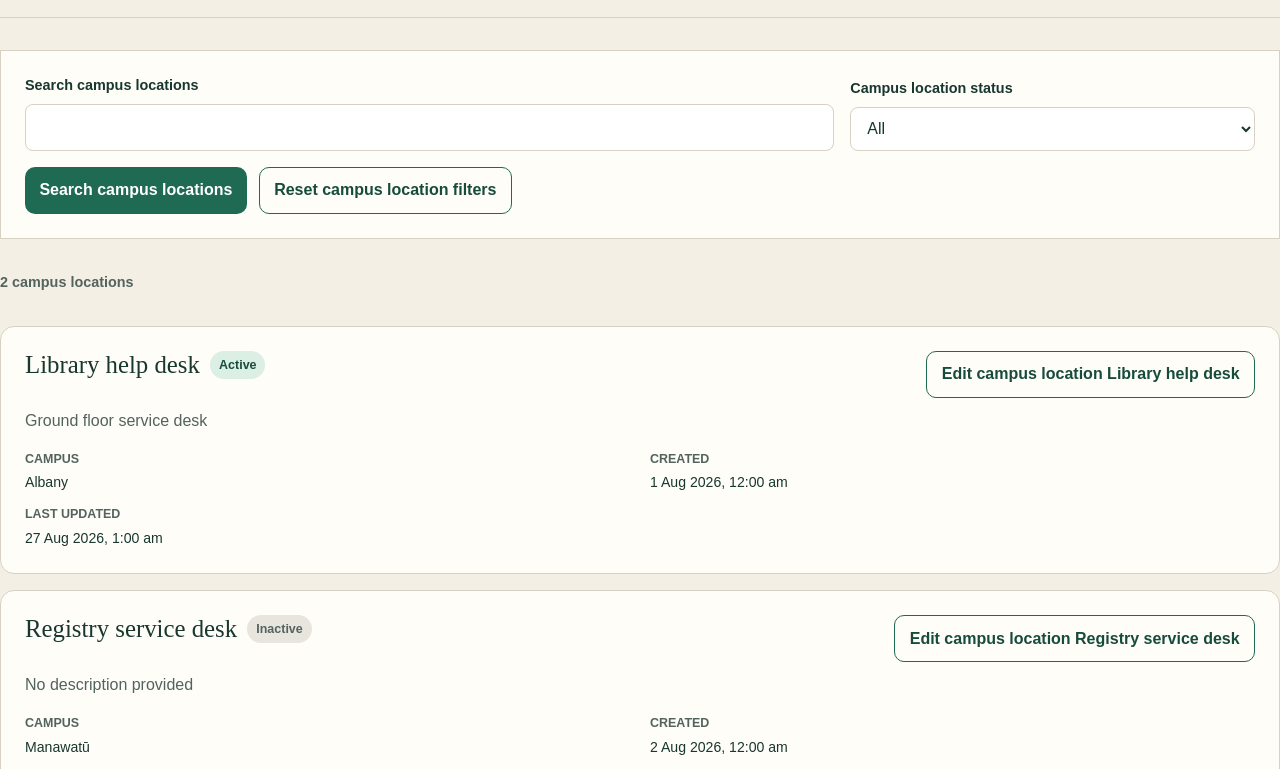
Test case: preserves a stale edit and requires an explicit latest-record reload
(page scrolled)
Expected: the heading "Library help desk" is shown, [25,351,200,379]
Click the button "Edit campus location Library help desk". click: (1091, 374)
box: [926,351,1255,398]
(page scrolled)
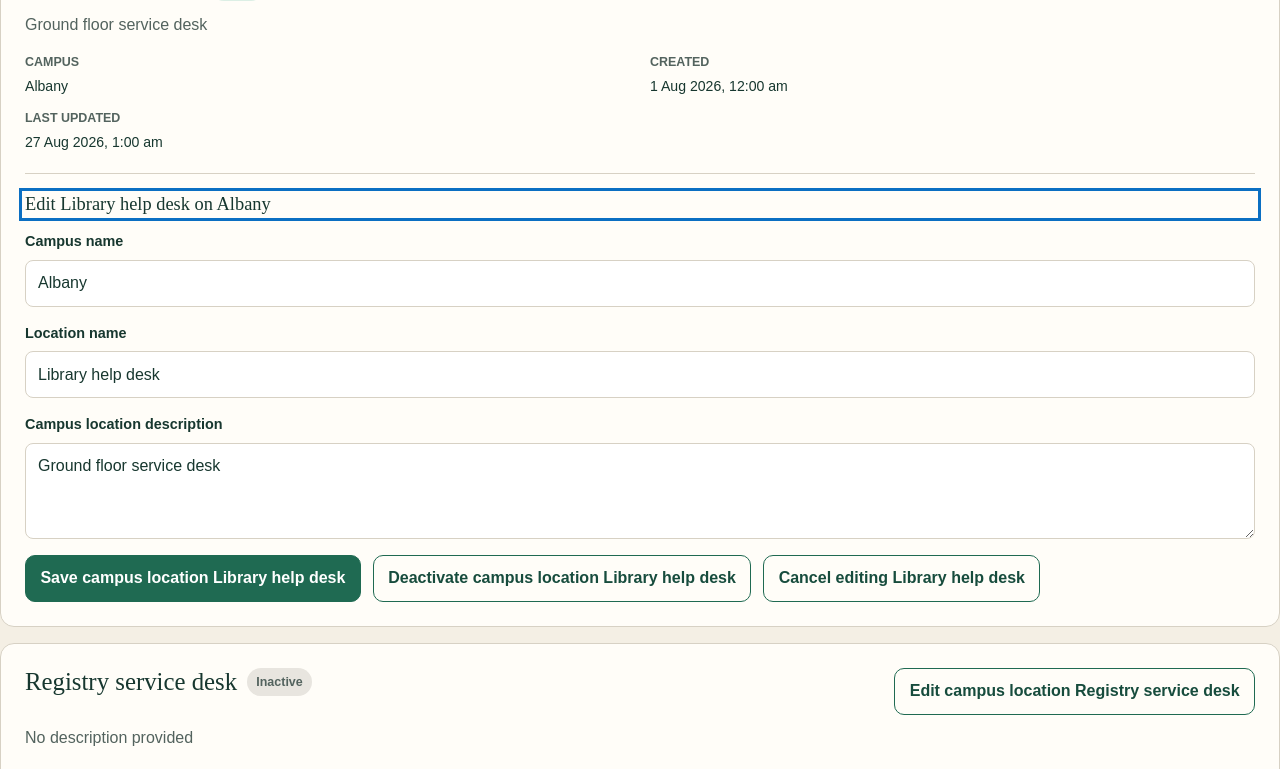
Replace the text in the field labelled "Location name" with "My draft library name". click: (640, 375)
box: [25,352,1255,398]
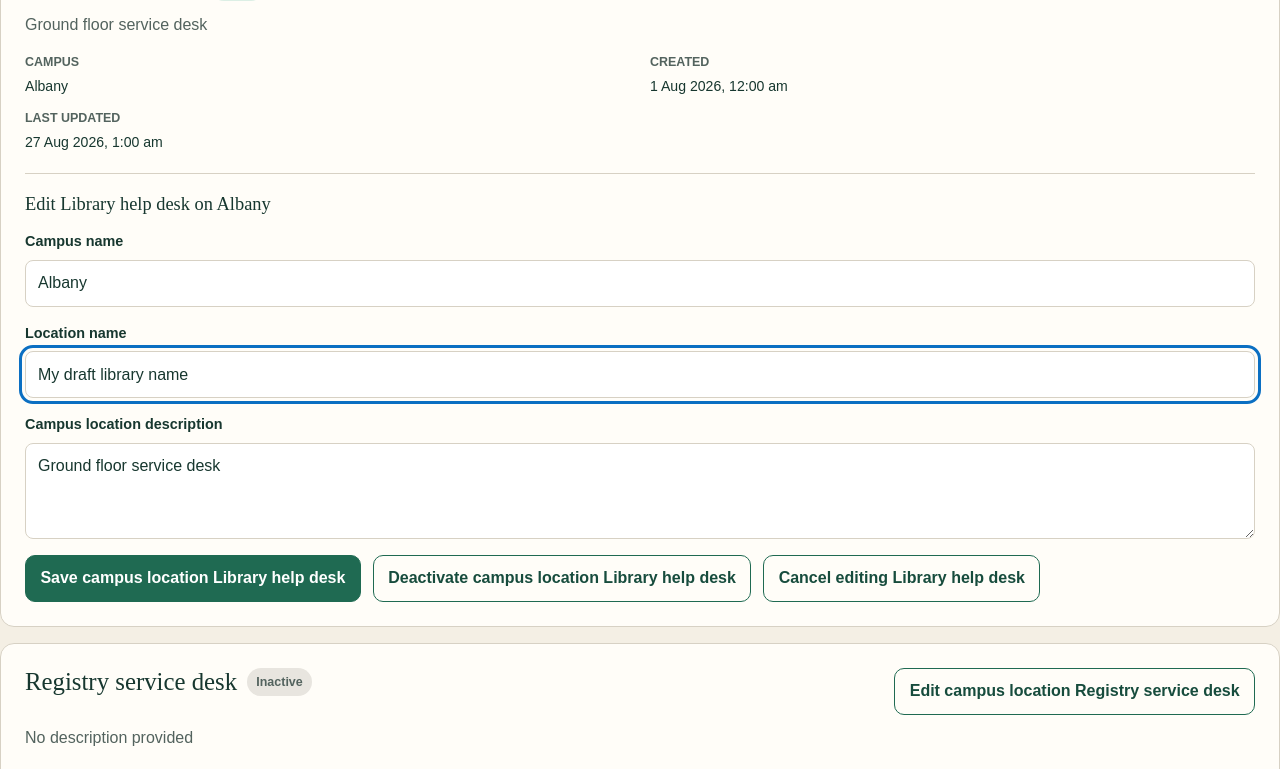
Click the button "Save campus location Library help desk". click: (193, 578)
box: [25,555,361,602]
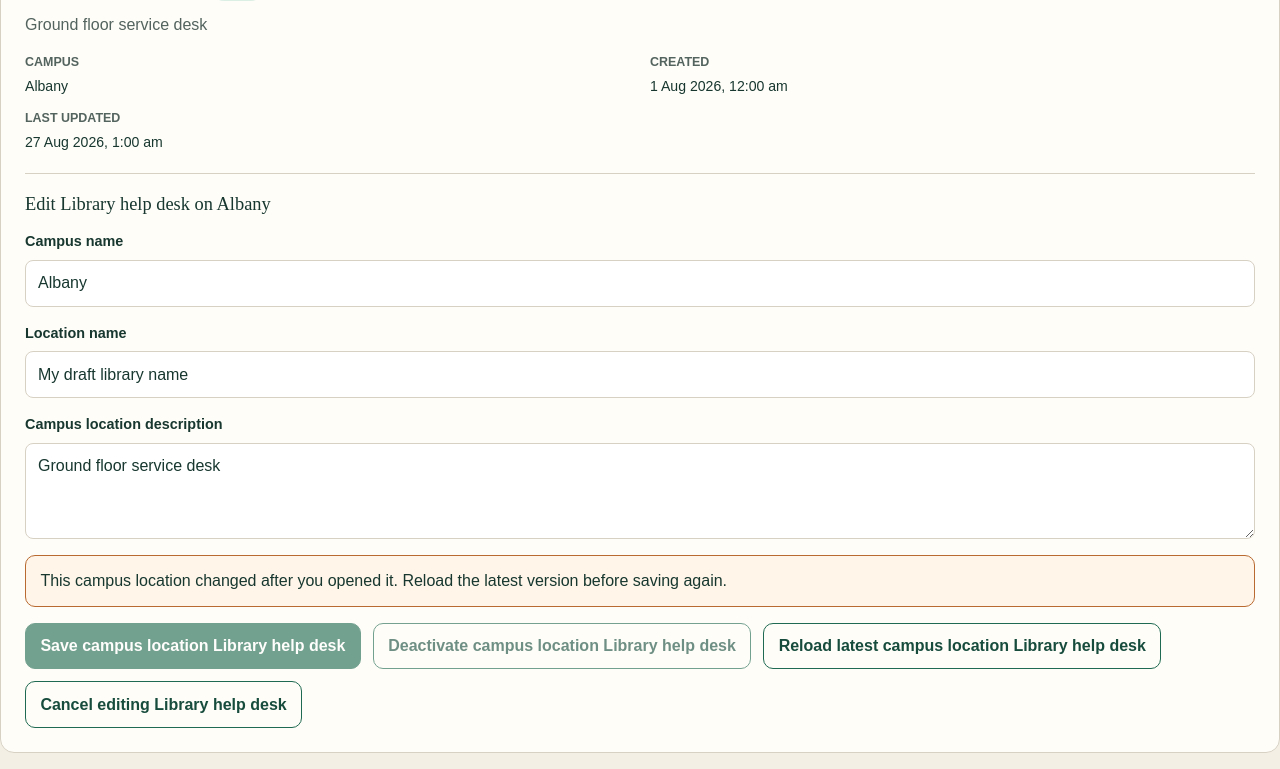
Expected: the message shows "This campus location changed after you opened it. Reload the latest version before saving again.", [40,572,727,589]
Expected: the button "Save campus location Library help desk" is disabled, [25,623,361,670]
Click the button "Reload latest campus location Library help desk". click: (962, 646)
box: [763,623,1161,670]
(page scrolled)
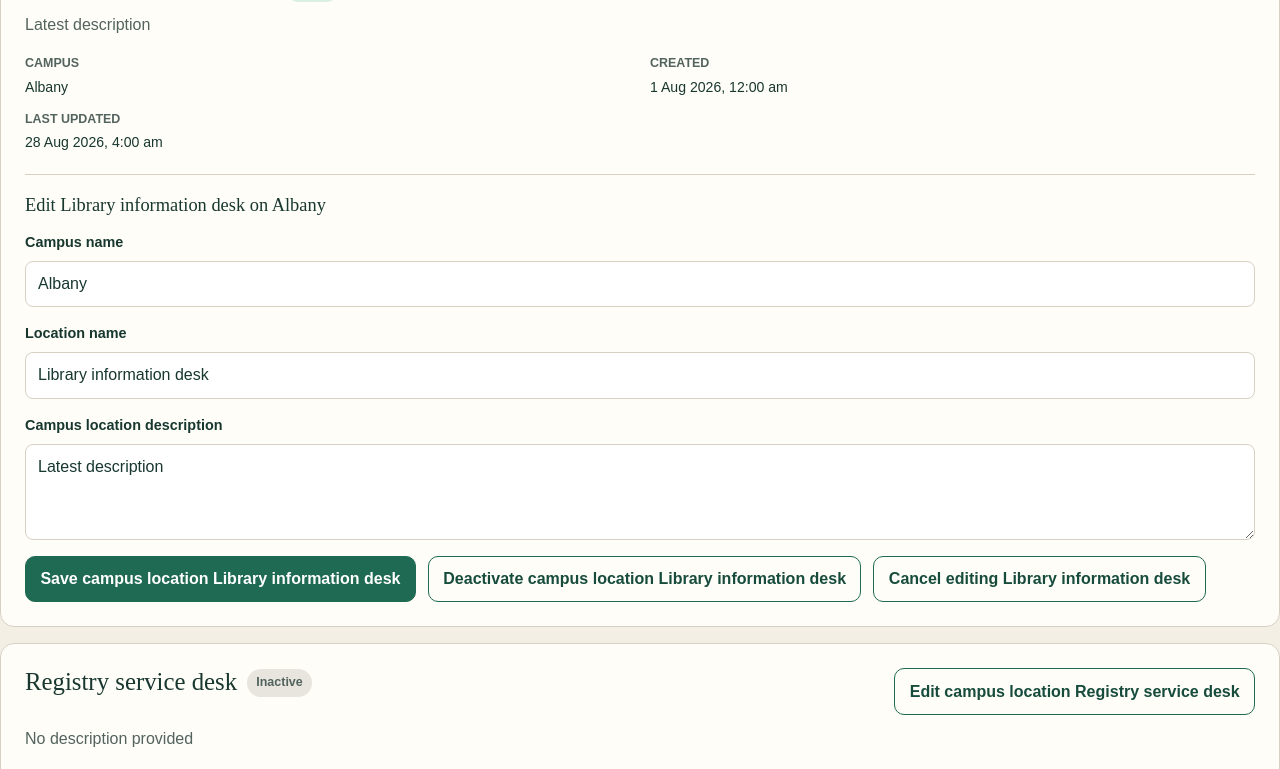
Expected: the field labelled "Location name" holds "Library information desk", [25,352,1255,399]
Expected: the button "Save campus location Library information desk" is enabled, [25,556,416,602]
